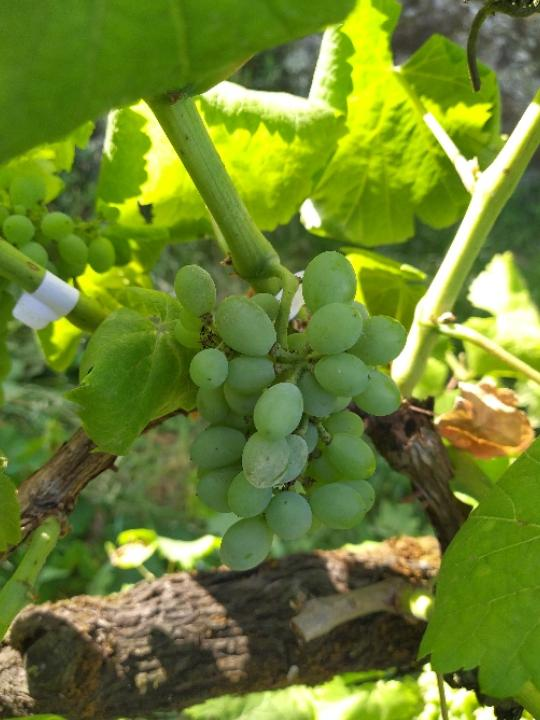grape: (170, 250, 410, 576)
